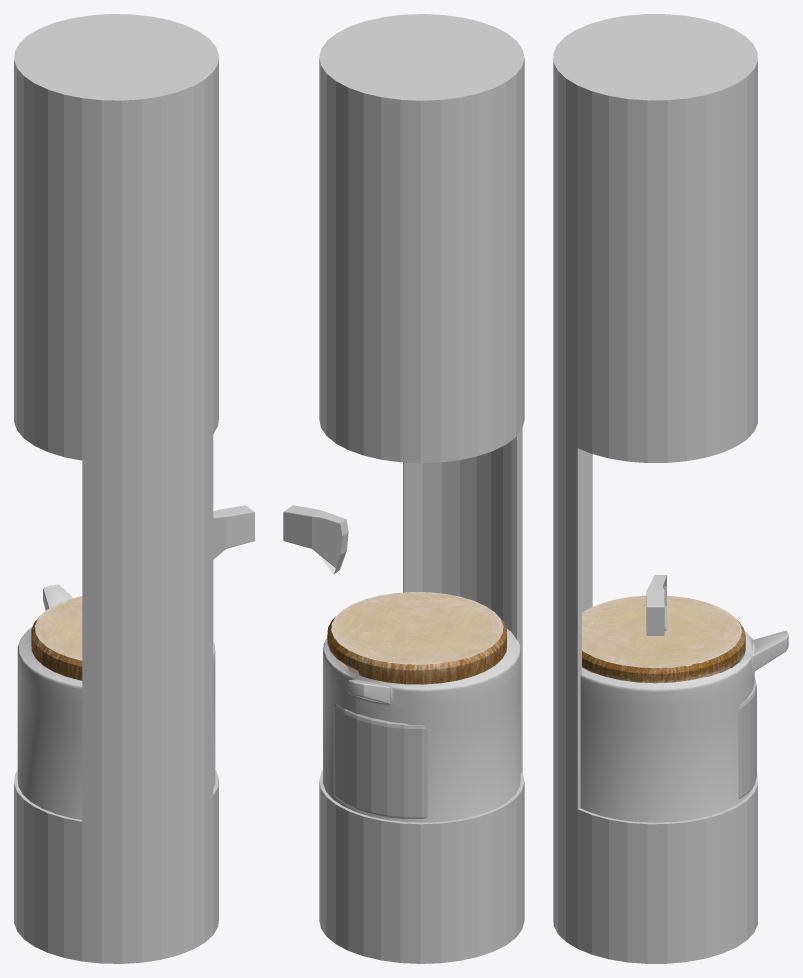
The model's file is wood trunk_v2 1.fbx.
3 views of the same model, side by side, from view 1: azimuth 30°, elevation 25°; view 2: azimuth 150°, elevation 25°; view 3: azimuth 270°, elevation 25° (orthographic).
Visible parts, largest first — view 1: TreeBark, treestumps, NewLog good, axe head; view 2: TreeBark, treestumps, NewLog good, fullLog, axe head, axe head trial, axe head.001; view 3: TreeBark, treestumps, NewLog good, fullLog, axe head.
Part boxes in pixels (x1,y1,x2,y2): TreeBark: [14, 14, 218, 963]; treestumps: [17, 584, 215, 819]; NewLog good: [31, 596, 82, 680]; axe head: [213, 505, 254, 559]; TreeBark: [319, 14, 524, 963]; treestumps: [323, 628, 520, 822]; NewLog good: [327, 592, 506, 684]; fullLog: [333, 704, 427, 818]; axe head: [283, 505, 348, 570]; axe head trial: [285, 505, 348, 568]; axe head.001: [286, 507, 348, 574]; TreeBark: [553, 14, 757, 963]; treestumps: [580, 630, 788, 822]; NewLog good: [582, 595, 745, 683]; fullLog: [738, 678, 756, 798]; axe head: [646, 575, 664, 635].
Size of the model in its own units: 71.39 by 268 by 65.38.
